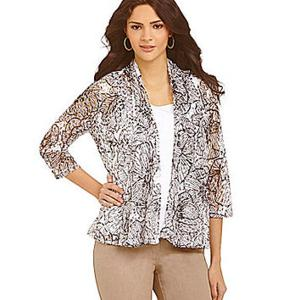S_cardigan sweater: (61, 83, 239, 245)
